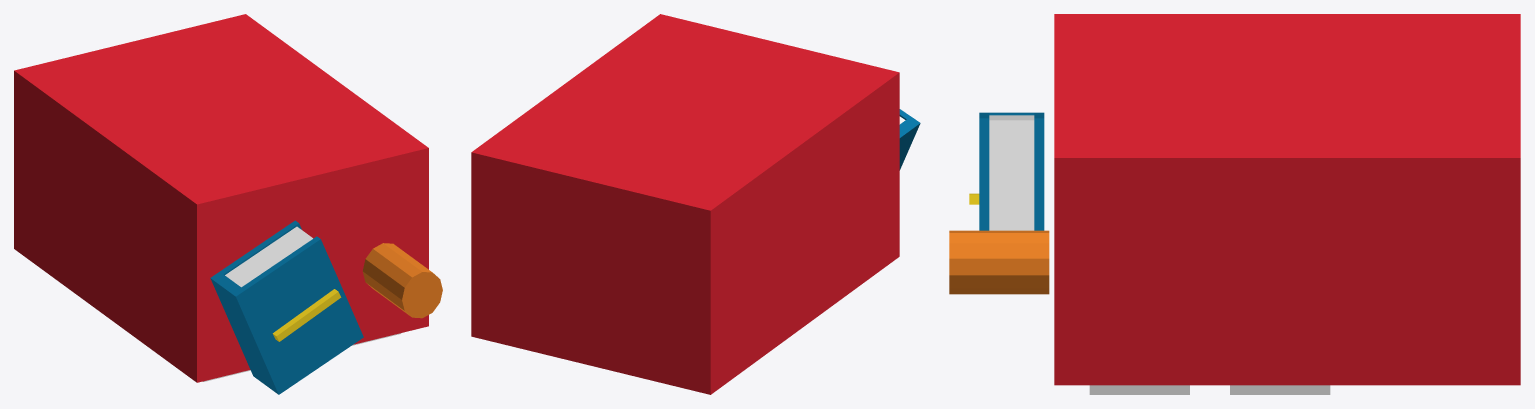
The model's file is tinker.obj.
3 views of the same model, side by side, from view 1: azimuth 30°, elevation 25°; view 2: azimuth 150°, elevation 25°; view 3: azimuth 270°, elevation 25° (orthographic). The views are drawn at different scales.
Visible parts, largest first — view 1: group_0_15277357, group_0_30377, group_0_16089887, group_0_16448250, group_0_16768282; view 2: group_0_15277357, group_0_30377; view 3: group_0_15277357, group_0_16448250, group_0_16089887, group_0_30377.
Boxes of the visible parts, x1=… form: group_0_15277357: x1=14, y1=14, x2=428, y2=382; group_0_30377: x1=210, y1=220, x2=363, y2=394; group_0_16089887: x1=362, y1=243, x2=442, y2=318; group_0_16448250: x1=203, y1=226, x2=401, y2=381; group_0_16768282: x1=272, y1=289, x2=341, y2=341; group_0_15277357: x1=471, y1=14, x2=899, y2=394; group_0_30377: x1=899, y1=109, x2=920, y2=170; group_0_15277357: x1=1054, y1=14, x2=1520, y2=385; group_0_16448250: x1=989, y1=115, x2=1330, y2=394; group_0_16089887: x1=949, y1=230, x2=1049, y2=294; group_0_30377: x1=979, y1=112, x2=1044, y2=230.
Bounding box in the file's own units: 68 × 59 × 114.
